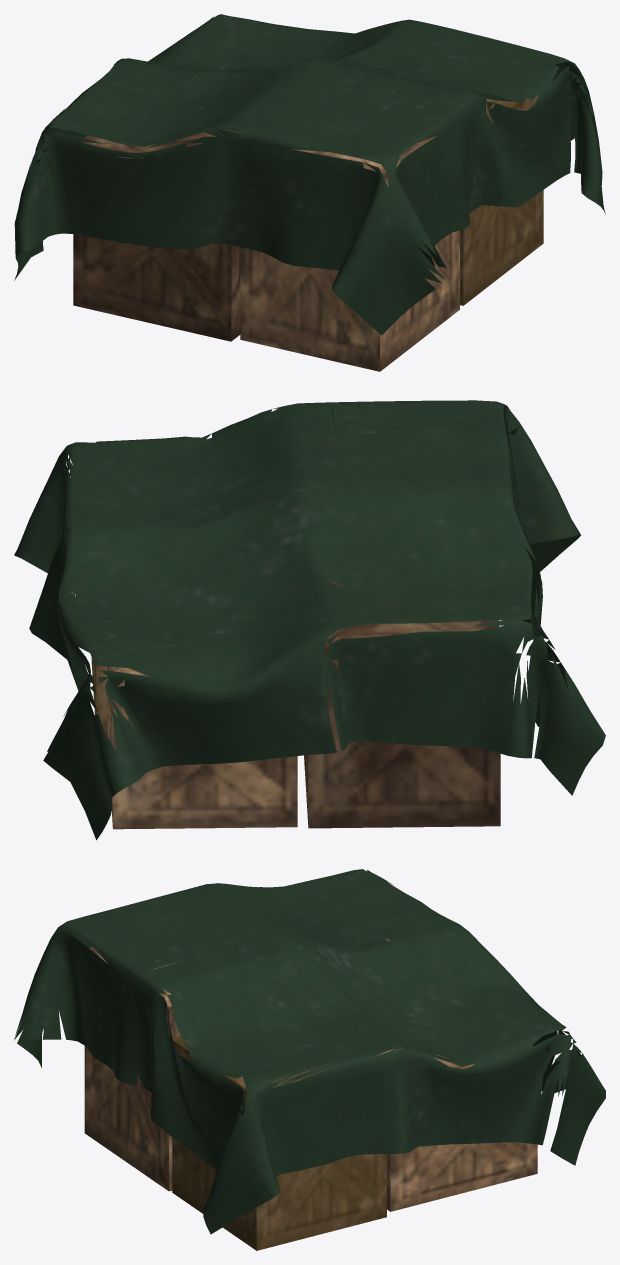
Rendered from tj_tarp_crates.fbx.
3 renders of one model, top to bottom at view 1: azimuth 30°, elevation 25°; view 2: azimuth 150°, elevation 25°; view 3: azimuth 270°, elevation 25°, orthographic. The views are drawn at different scales.
Parts seen in each view (by area): view 1: tj_tarp_crates_LOD0; view 2: tj_tarp_crates_LOD0; view 3: tj_tarp_crates_LOD0.
Boxes of the visible parts, x1=… form: tj_tarp_crates_LOD0: x1=14, y1=14, x2=605, y2=371; tj_tarp_crates_LOD0: x1=14, y1=400, x2=605, y2=840; tj_tarp_crates_LOD0: x1=14, y1=869, x2=605, y2=1250.
Size of what is drawn, in the model's own units: 2.76 by 1.06 by 2.69.
1 material, 1 textured.
